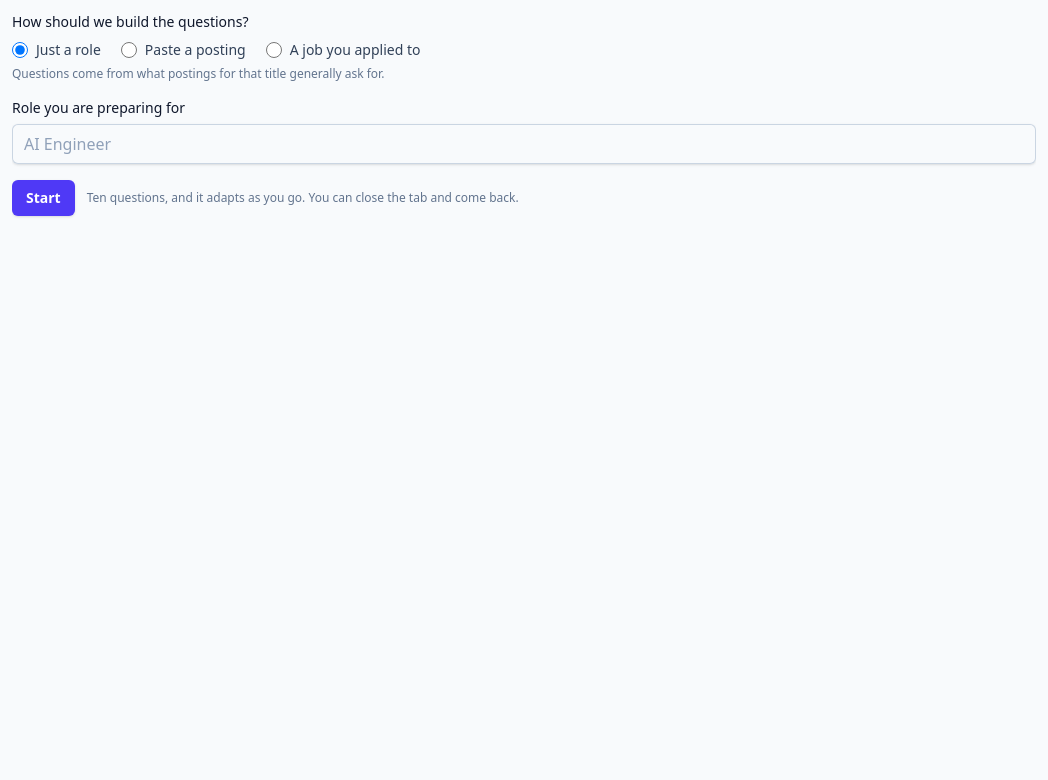
Test: StartInterview › the modes › swaps the fields rather than hiding them
Click the radio button labelled "Paste a posting".
click(129, 50)  # box x1=121 y1=42 x2=137 y2=58
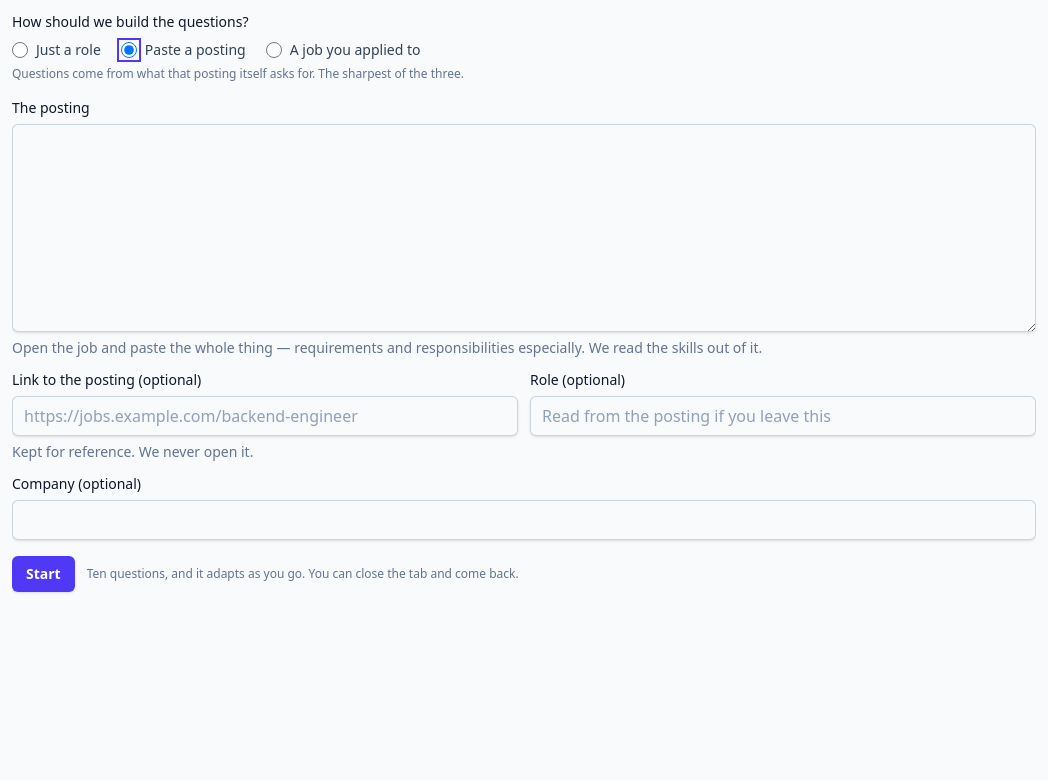
Now the label "Role you are preparing for" is gone
Now the text box labelled "The posting" is shown, box x1=12 y1=124 x2=1036 y2=332
